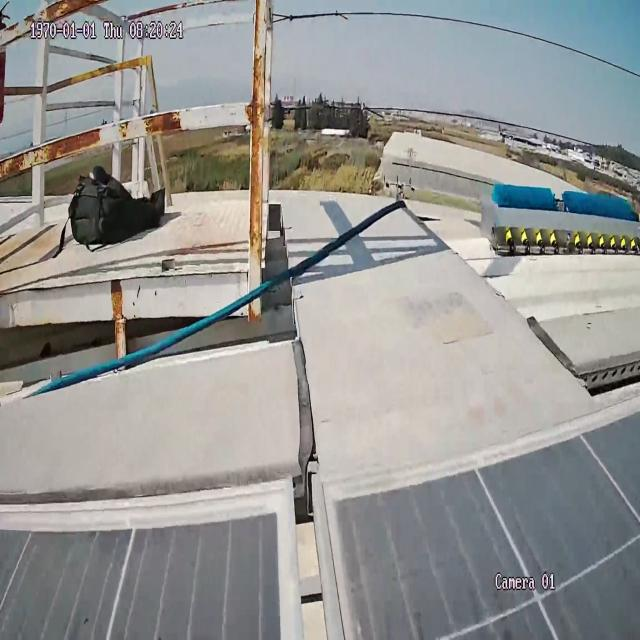interior panel: (250, 489, 390, 640)
outher panel: (0, 169, 640, 499)
